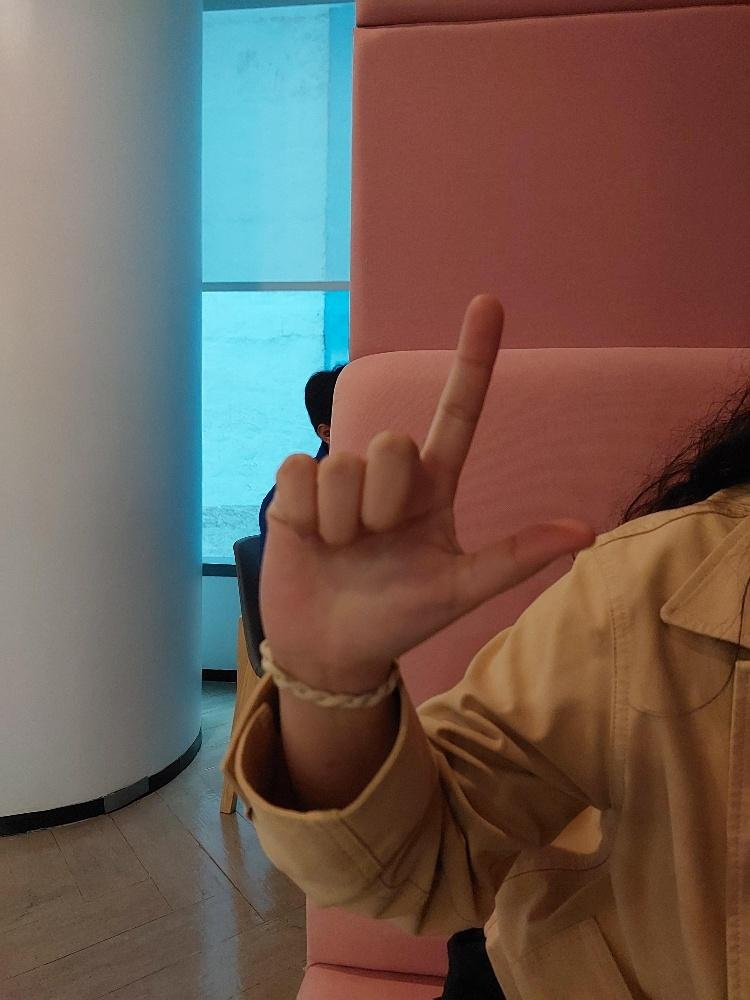l: (252, 285, 603, 702)
